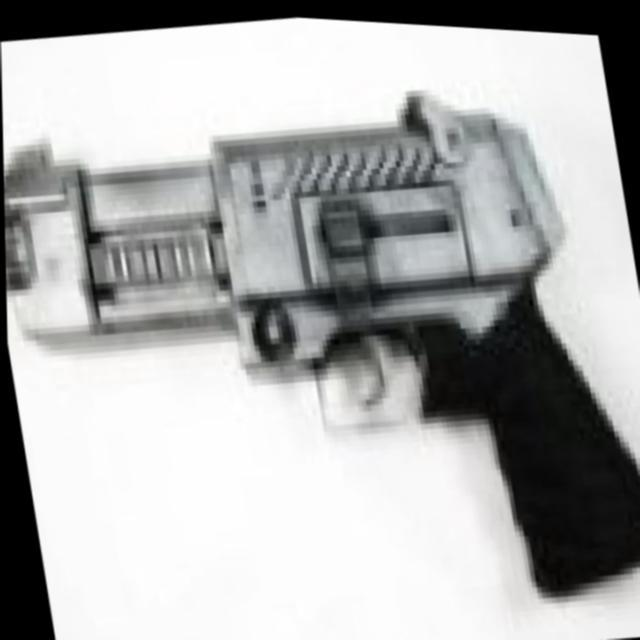weapon: (1, 54, 640, 640)
